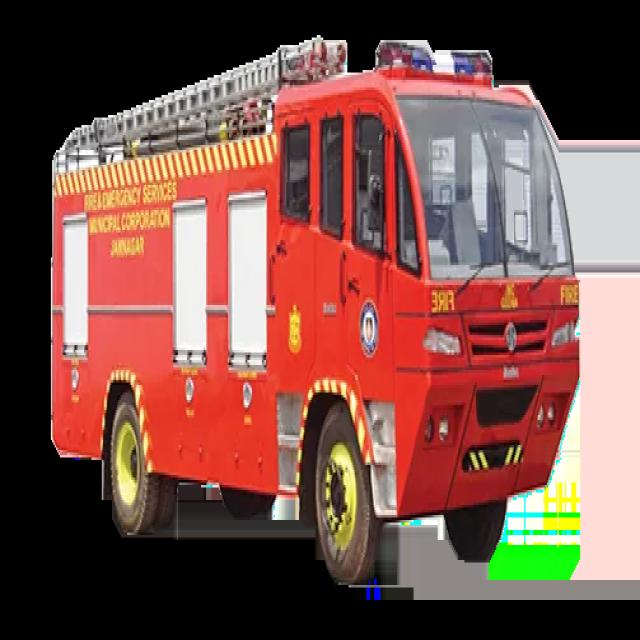emergency: (51, 39, 580, 583)
